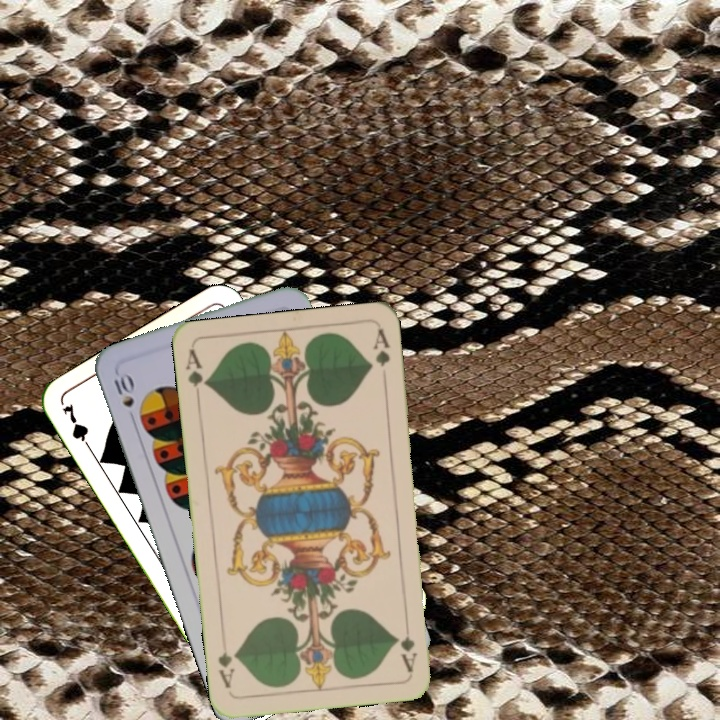G7: (58, 399, 96, 455)
GA: (181, 346, 211, 405), (397, 615, 420, 674)
S10: (110, 368, 138, 425)
